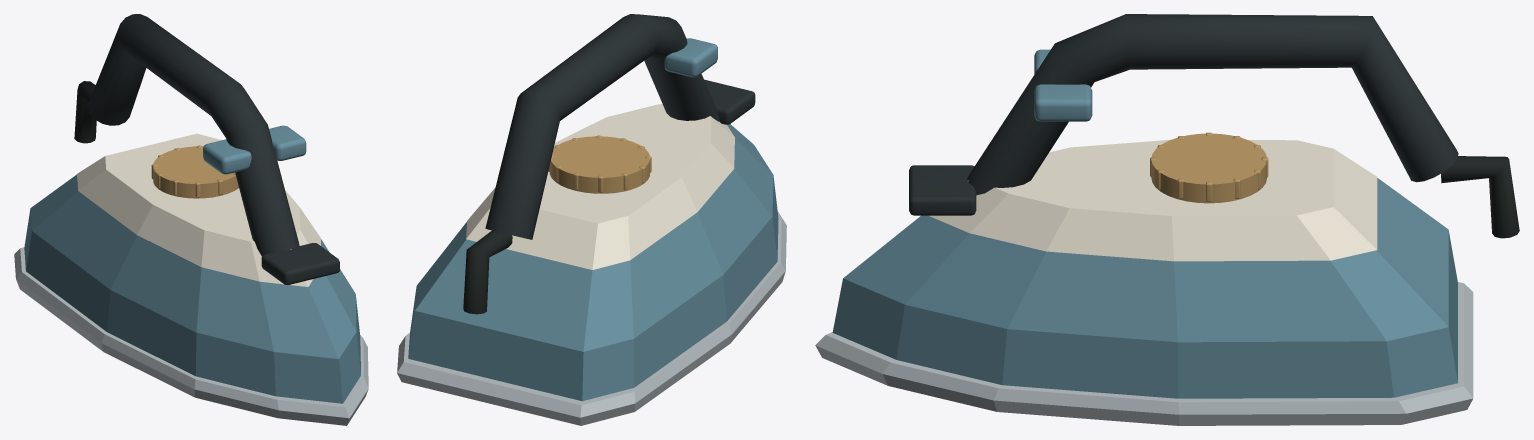
Rendered from laundry-steam-iron.glb.
3 renders of one model, left to right at view 1: azimuth 30°, elevation 25°; view 2: azimuth 150°, elevation 25°; view 3: azimuth 270°, elevation 25°, orthographic. The views are drawn at different scales.
Parts seen in each view (by area): view 1: laundry-steam-iron authored assembly; view 2: laundry-steam-iron authored assembly; view 3: laundry-steam-iron authored assembly.
Part boxes in pixels (x1,y1,x2,y2): laundry-steam-iron authored assembly: (14,14,368,425); laundry-steam-iron authored assembly: (397,14,786,425); laundry-steam-iron authored assembly: (815,14,1519,425).
Bounding box in the file's own units: 0.14 × 0.16 × 0.3.
